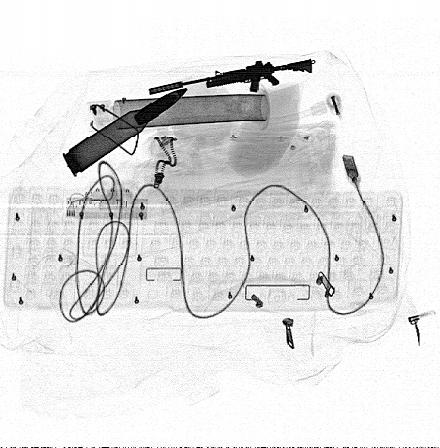Bullet: (64, 88, 187, 178)
Gun: (148, 58, 313, 96)
